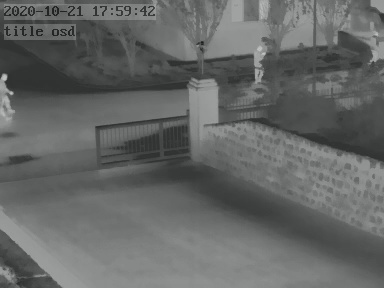person: (1, 70, 17, 124), (252, 44, 265, 88)
